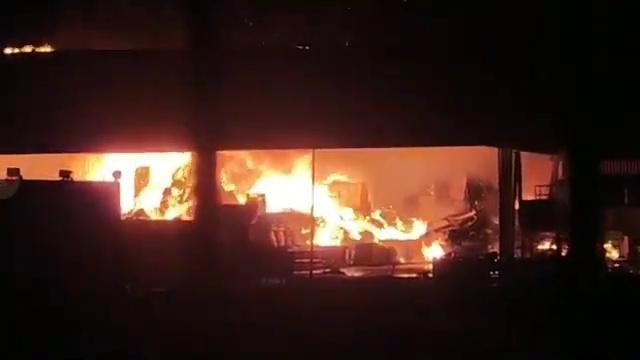fire: (115, 155, 179, 215), (263, 174, 332, 212)
